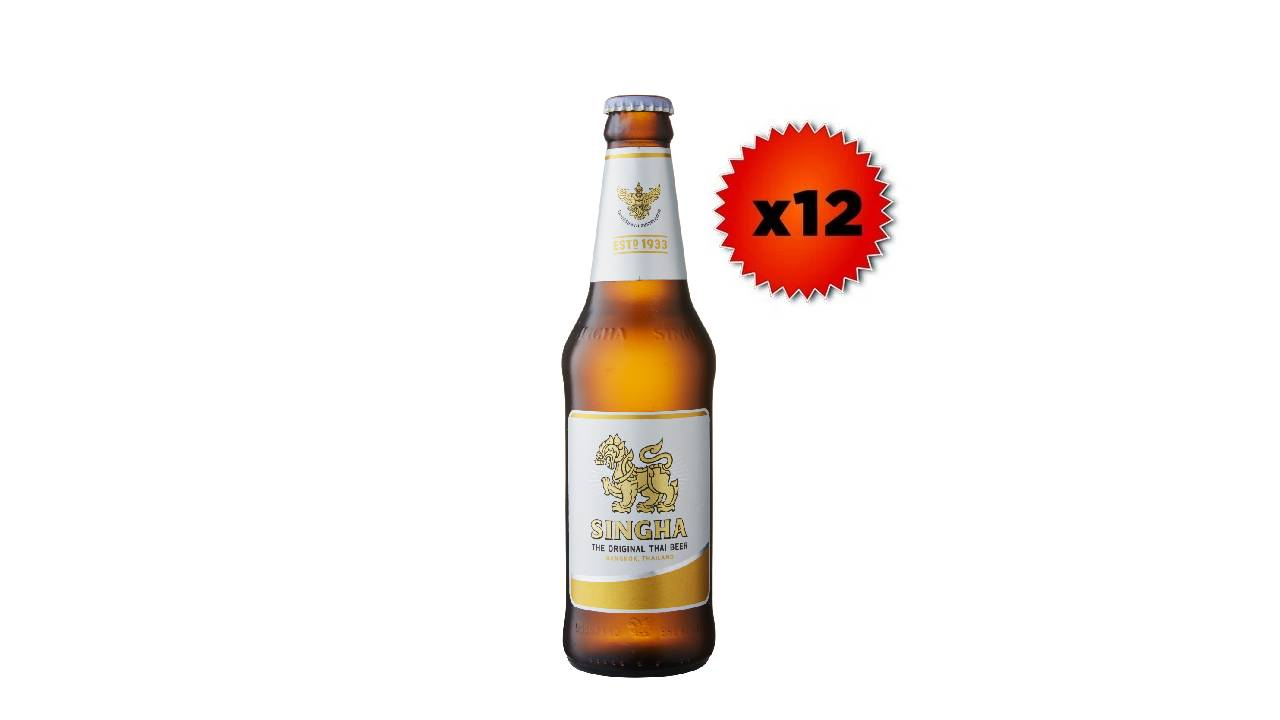glass_bottle: (537, 78, 733, 694)
